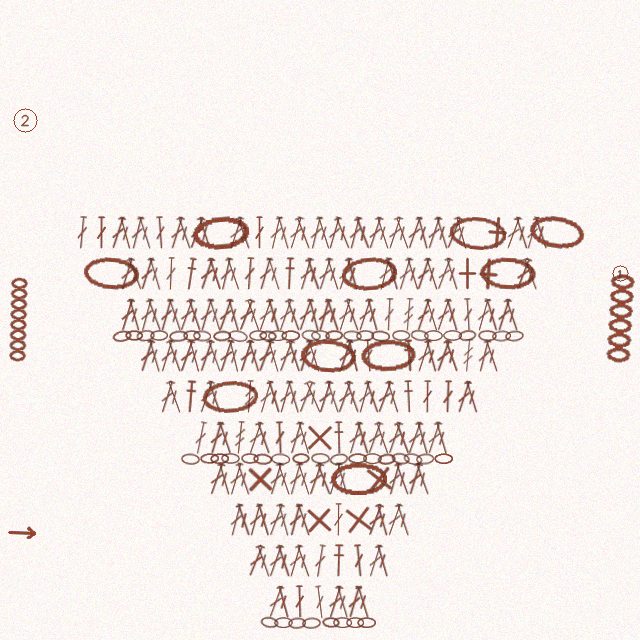chain: (527, 212, 587, 253), (448, 214, 507, 252), (299, 337, 358, 374), (82, 255, 141, 292), (191, 214, 250, 251), (340, 255, 398, 292), (201, 379, 259, 415), (479, 256, 537, 291), (360, 338, 417, 373), (330, 462, 387, 495), (329, 452, 349, 466), (403, 452, 423, 466), (112, 329, 132, 343), (228, 329, 248, 343), (301, 329, 321, 342), (260, 616, 279, 629), (391, 452, 410, 465), (136, 329, 155, 342), (410, 329, 429, 342), (458, 329, 477, 342), (302, 617, 321, 629), (181, 453, 200, 465), (253, 453, 272, 465), (271, 453, 290, 465), (377, 453, 396, 465), (169, 330, 188, 342), (343, 330, 362, 342), (371, 330, 390, 342), (492, 330, 511, 342), (505, 330, 524, 342), (288, 617, 306, 629), (416, 453, 434, 465), (193, 330, 211, 342), (213, 330, 231, 342), (259, 330, 277, 342), (274, 617, 293, 628), (333, 617, 352, 628), (357, 617, 376, 628), (200, 453, 219, 464), (210, 453, 229, 464), (221, 453, 240, 464), (311, 453, 330, 464), (348, 453, 367, 464), (363, 453, 382, 464), (434, 453, 453, 464), (268, 330, 287, 341), (281, 330, 300, 341), (311, 330, 330, 341), (424, 330, 443, 341), (443, 330, 462, 341), (478, 330, 497, 341), (322, 617, 340, 628), (346, 617, 364, 628), (241, 453, 259, 464), (292, 453, 310, 464), (125, 330, 143, 341), (150, 330, 168, 341), (183, 330, 201, 341), (249, 330, 267, 341), (325, 330, 343, 341), (356, 330, 374, 341), (392, 330, 410, 341)
double: (302, 380, 325, 414), (245, 544, 267, 578), (265, 503, 287, 537), (364, 503, 386, 537), (313, 462, 335, 496), (295, 380, 317, 414), (275, 339, 297, 373), (235, 298, 257, 332), (124, 257, 146, 291), (433, 257, 455, 291), (512, 257, 534, 291), (332, 216, 354, 250), (352, 216, 374, 250), (443, 216, 465, 250), (265, 585, 286, 619), (253, 544, 274, 578), (265, 544, 286, 578), (293, 544, 314, 578), (384, 503, 405, 537), (206, 462, 227, 496), (233, 462, 254, 496), (305, 462, 326, 496), (392, 462, 413, 496), (412, 462, 433, 496), (245, 421, 266, 455), (253, 421, 274, 455), (364, 421, 385, 455), (372, 421, 393, 455), (384, 421, 405, 455), (392, 421, 413, 455), (404, 421, 425, 455), (164, 380, 185, 414), (196, 380, 217, 414), (204, 380, 225, 414), (334, 380, 355, 414), (342, 380, 363, 414), (362, 380, 383, 414), (374, 380, 395, 414), (164, 339, 185, 373), (176, 339, 197, 373), (196, 339, 217, 373), (204, 339, 225, 373), (255, 339, 276, 373), (433, 339, 454, 373), (441, 339, 462, 373), (144, 298, 165, 332), (176, 298, 197, 332), (184, 298, 205, 332), (215, 298, 236, 332), (243, 298, 264, 332), (255, 298, 276, 332), (275, 298, 296, 332), (283, 298, 304, 332), (295, 298, 316, 332), (342, 298, 363, 332), (413, 298, 434, 332), (433, 298, 454, 332), (223, 257, 244, 291), (303, 257, 324, 291), (413, 257, 434, 291), (520, 257, 541, 291), (174, 216, 195, 250), (186, 216, 207, 250), (233, 216, 254, 250), (293, 216, 314, 250), (392, 216, 413, 250), (404, 216, 425, 250), (503, 216, 524, 250), (325, 585, 345, 619), (353, 585, 373, 619), (274, 544, 294, 578), (365, 544, 385, 578), (234, 503, 254, 537), (294, 503, 314, 537), (393, 503, 413, 537), (226, 462, 246, 496), (266, 462, 286, 496), (274, 462, 294, 496), (294, 462, 314, 496), (325, 462, 345, 496), (405, 462, 425, 496), (215, 421, 235, 455), (286, 421, 306, 455), (294, 421, 314, 455), (345, 421, 365, 455), (353, 421, 373, 455), (424, 421, 444, 455), (157, 380, 177, 414), (256, 380, 276, 414), (264, 380, 284, 414), (315, 380, 335, 414), (323, 380, 343, 414), (383, 380, 403, 414), (454, 380, 474, 414), (462, 380, 482, 414), (137, 339, 157, 373), (157, 339, 177, 373), (216, 339, 236, 373), (236, 339, 256, 373), (244, 339, 264, 373), (284, 339, 304, 373), (304, 339, 324, 373), (335, 339, 355, 373), (414, 339, 434, 373), (482, 339, 502, 373), (117, 298, 137, 332), (165, 298, 185, 332), (205, 298, 225, 332), (264, 298, 284, 332), (323, 298, 343, 332), (335, 298, 355, 332), (355, 298, 375, 332), (422, 298, 442, 332), (442, 298, 462, 332), (482, 298, 502, 332), (494, 298, 514, 332), (502, 298, 522, 332), (117, 257, 137, 291), (137, 257, 157, 291), (145, 257, 165, 291), (197, 257, 217, 291), (205, 257, 225, 291), (264, 257, 284, 291), (296, 257, 316, 291), (315, 257, 335, 291), (323, 257, 343, 291), (335, 257, 355, 291), (395, 257, 415, 291), (403, 257, 423, 291), (422, 257, 442, 291), (442, 257, 462, 291), (108, 216, 128, 250), (135, 216, 155, 250), (167, 216, 187, 250), (195, 216, 215, 250), (226, 216, 246, 250), (286, 216, 306, 250), (314, 216, 334, 250), (365, 216, 385, 250), (373, 216, 393, 250), (385, 216, 405, 250), (424, 216, 444, 250), (432, 216, 452, 250), (512, 216, 532, 250), (531, 216, 551, 250), (274, 585, 293, 619), (333, 585, 352, 619), (345, 585, 364, 619), (286, 544, 305, 578), (373, 544, 392, 578), (246, 503, 265, 537), (254, 503, 273, 537), (274, 503, 293, 537), (286, 503, 305, 537), (373, 503, 392, 537), (215, 462, 234, 496), (286, 462, 305, 496), (333, 462, 352, 496), (385, 462, 404, 496), (207, 421, 226, 455), (413, 421, 432, 455), (432, 421, 451, 455), (276, 380, 295, 414), (284, 380, 303, 414), (355, 380, 374, 414), (145, 339, 164, 373), (185, 339, 204, 373), (264, 339, 283, 373), (296, 339, 315, 373), (422, 339, 441, 373), (125, 298, 144, 332), (137, 298, 156, 332), (157, 298, 176, 332), (197, 298, 216, 332), (224, 298, 243, 332), (315, 298, 334, 332), (363, 298, 382, 332), (474, 298, 493, 332), (256, 257, 275, 291), (343, 257, 362, 291), (383, 257, 402, 291), (116, 216, 135, 250), (274, 216, 293, 250), (325, 216, 344, 250), (452, 216, 471, 250), (523, 216, 542, 250), (227, 503, 245, 537), (225, 339, 243, 373), (344, 339, 362, 373), (475, 339, 493, 373), (305, 298, 323, 332), (217, 257, 235, 291), (376, 257, 394, 291), (128, 216, 146, 250), (267, 216, 285, 250), (307, 216, 325, 250), (346, 216, 364, 250), (414, 216, 432, 250), (192, 421, 209, 455), (312, 544, 328, 578), (313, 585, 327, 619), (352, 544, 366, 577), (75, 216, 89, 249), (362, 339, 375, 372), (243, 257, 256, 290), (154, 216, 167, 249), (274, 421, 286, 454), (442, 380, 454, 413), (383, 298, 395, 331), (462, 298, 474, 331), (165, 257, 177, 290), (294, 585, 305, 618), (333, 503, 344, 536), (422, 380, 433, 413), (96, 216, 107, 249), (254, 216, 265, 249)
enseble_chain: (603, 273, 638, 366), (7, 277, 30, 363)
half_double: (183, 257, 199, 291), (183, 380, 198, 413), (402, 339, 416, 372), (332, 544, 345, 577), (402, 380, 415, 413), (283, 257, 296, 290), (333, 421, 345, 454)
noise: (11, 106, 39, 134), (7, 526, 38, 539), (610, 263, 630, 283)
single: (340, 501, 377, 538), (361, 461, 397, 497), (480, 215, 515, 250), (302, 503, 336, 537), (243, 462, 277, 496), (471, 257, 505, 291), (303, 421, 336, 454), (451, 257, 484, 290)
treble: (233, 421, 247, 454), (461, 339, 475, 372), (243, 380, 256, 413), (402, 298, 415, 331)
